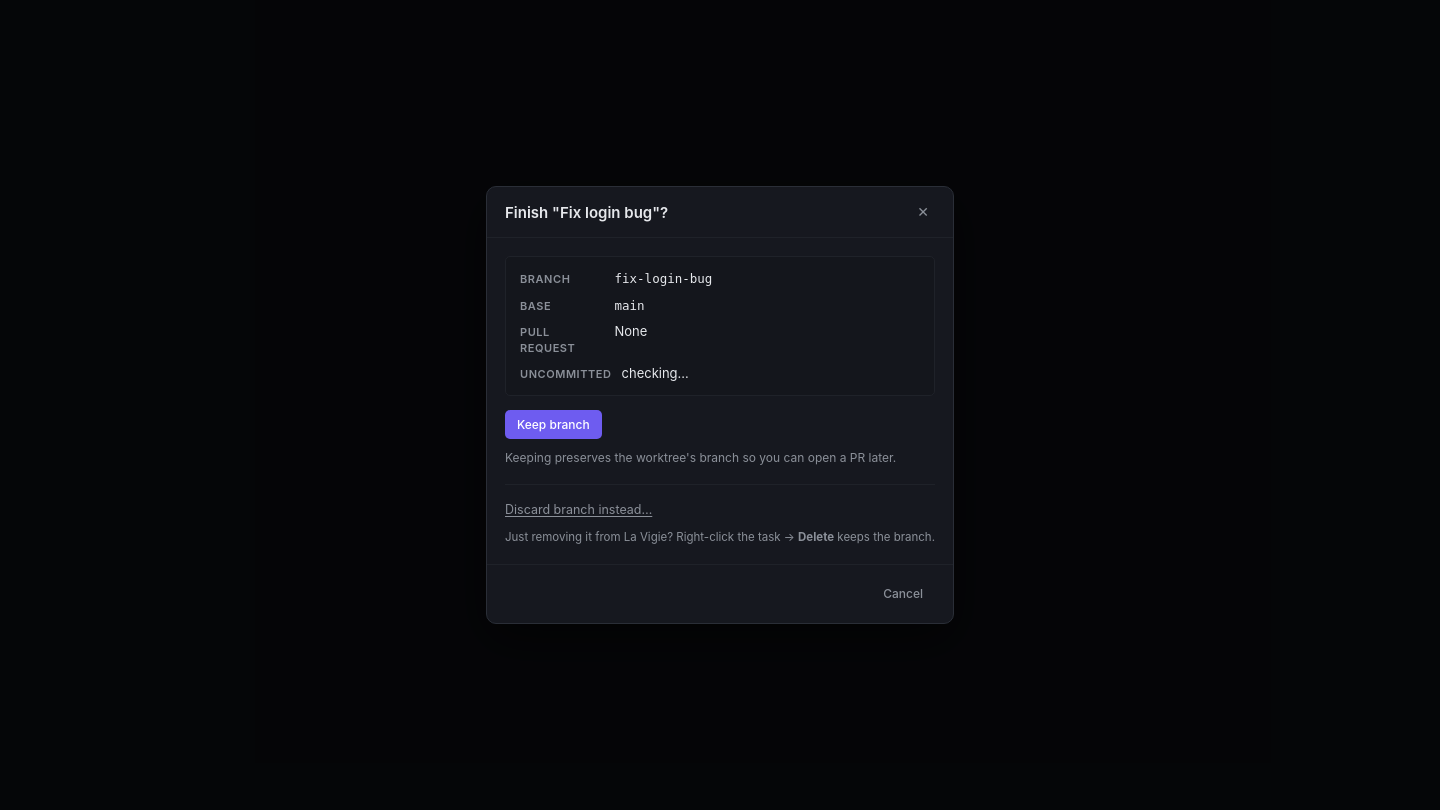
Test: FinishTaskModal — guarded Discard › Discard is not actionable until armed; arming reveals a red confirm
This screenshot has width=1440, height=810.
Check: the button "discard fix-login-bug" is not shown
Click the button "Discard branch instead…": (579, 510) [505,499,652,521]
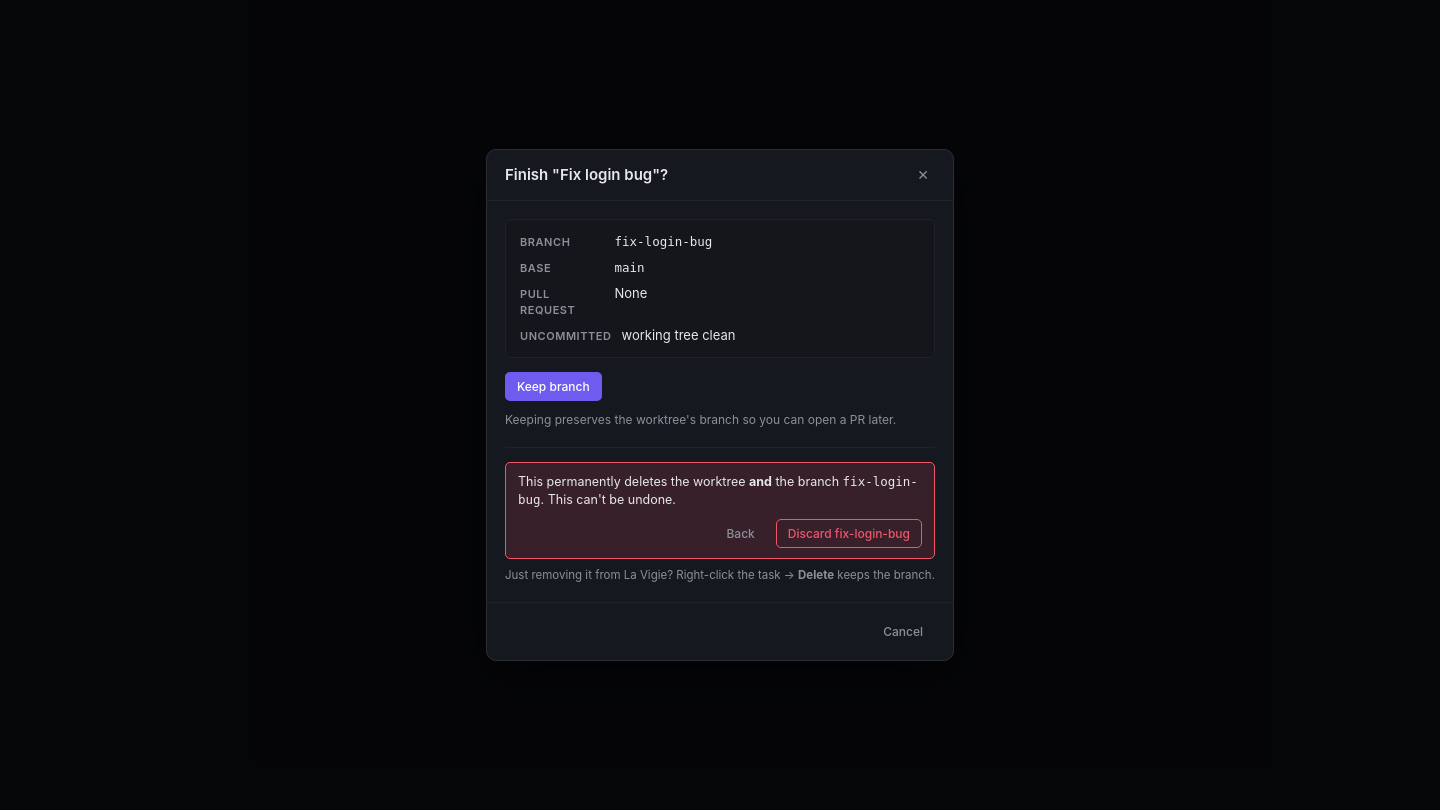
Check: the button "Discard fix-login-bug" is shown, box [776,519,922,548]
